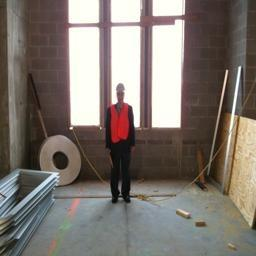hat: (114, 78, 134, 104)
vest: (107, 104, 138, 152)
